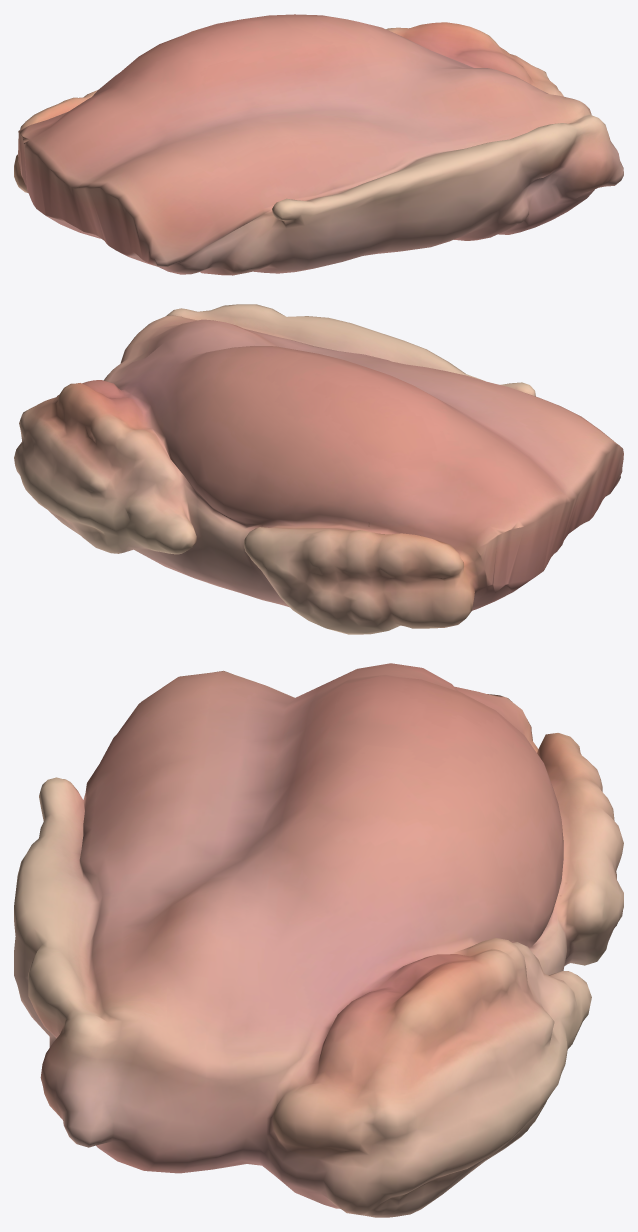
Rendered from optimized_glb.glb.
The picture shows the model from 3 angles, top to bottom: view 1: azimuth 30°, elevation 25°; view 2: azimuth 150°, elevation 25°; view 3: azimuth 270°, elevation 25°; orthographic projection. The views are drawn at different scales.
Parts seen in each view (by area): view 1: Chicken Slice; view 2: Chicken Slice; view 3: Chicken Slice.
Part boxes in pixels (<box>): Chicken Slice: <box>14,14,623,275</box>; Chicken Slice: <box>14,304,623,634</box>; Chicken Slice: <box>14,663,623,1217</box>.
Size of the model in its own units: 0.998 by 0.3887 by 0.6699.
Materials: 1 (1 with a texture image).
